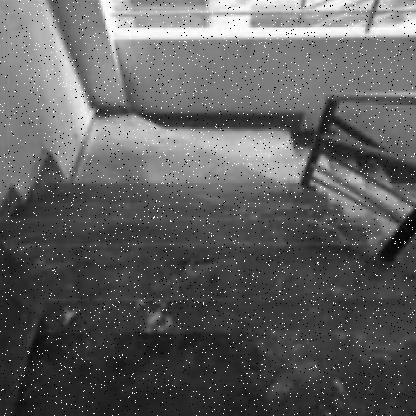stair_down: (44, 208, 339, 382)
